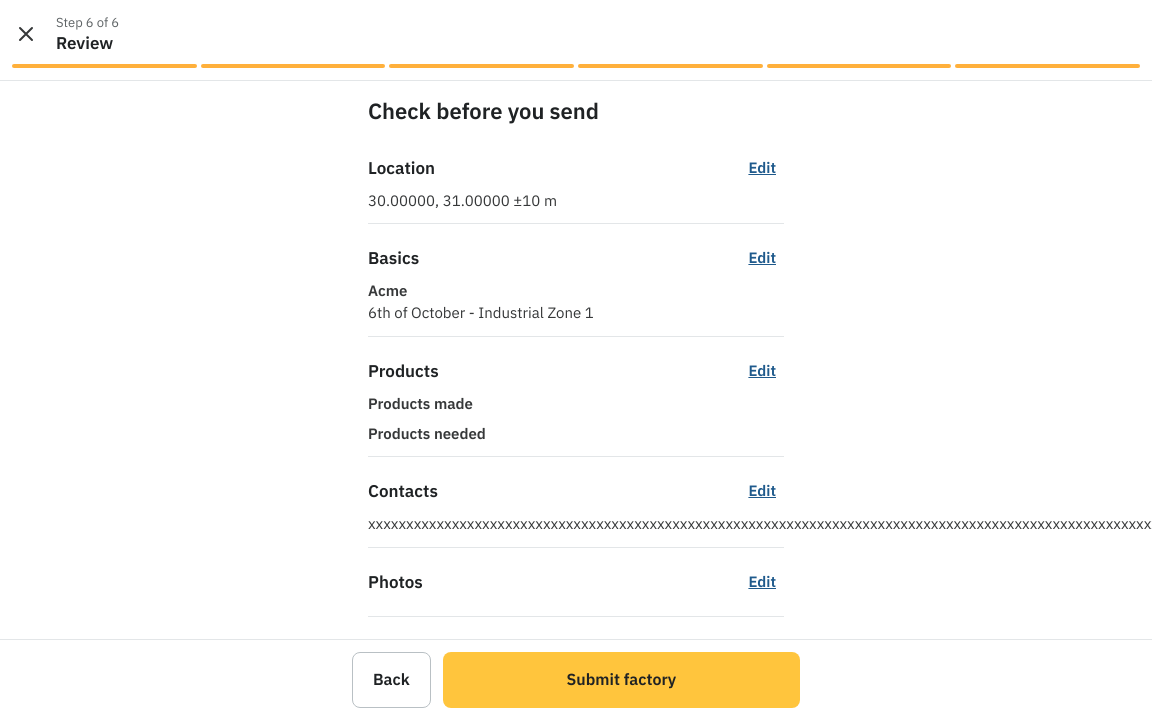
Scenario: FactoryStepper › limits (F1) › submit from review with a stored overlong field goes back to that step instead of submitting
Click the button "Submit factory": (621, 680) [443,652,800,708]
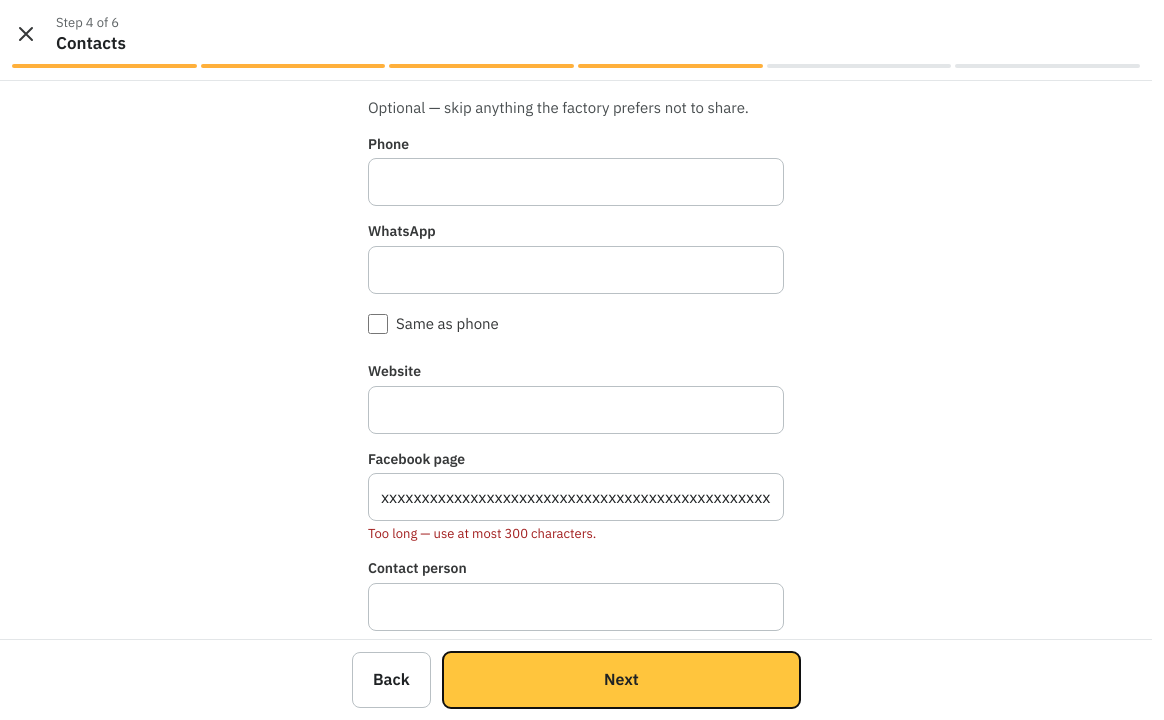
Result: the text "Step 4 of 6" is shown at [56,14,126,32]
